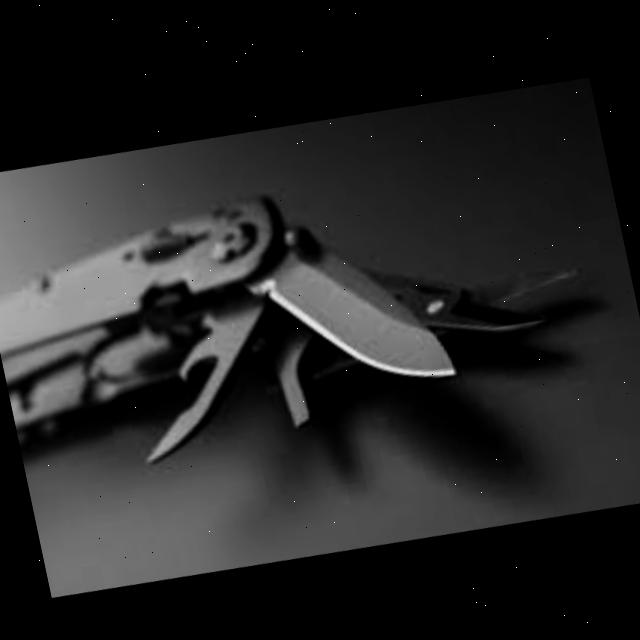Knife: (0, 114, 606, 507)
